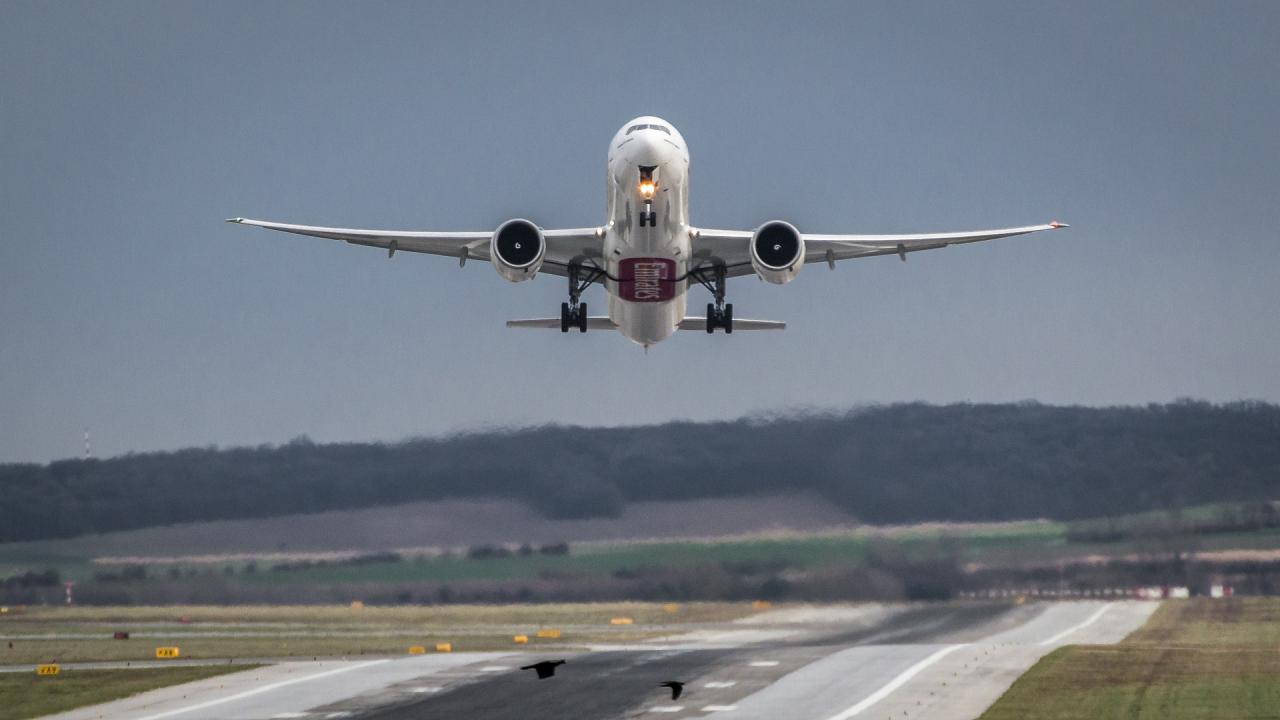Airplane: (218, 106, 1082, 358)
